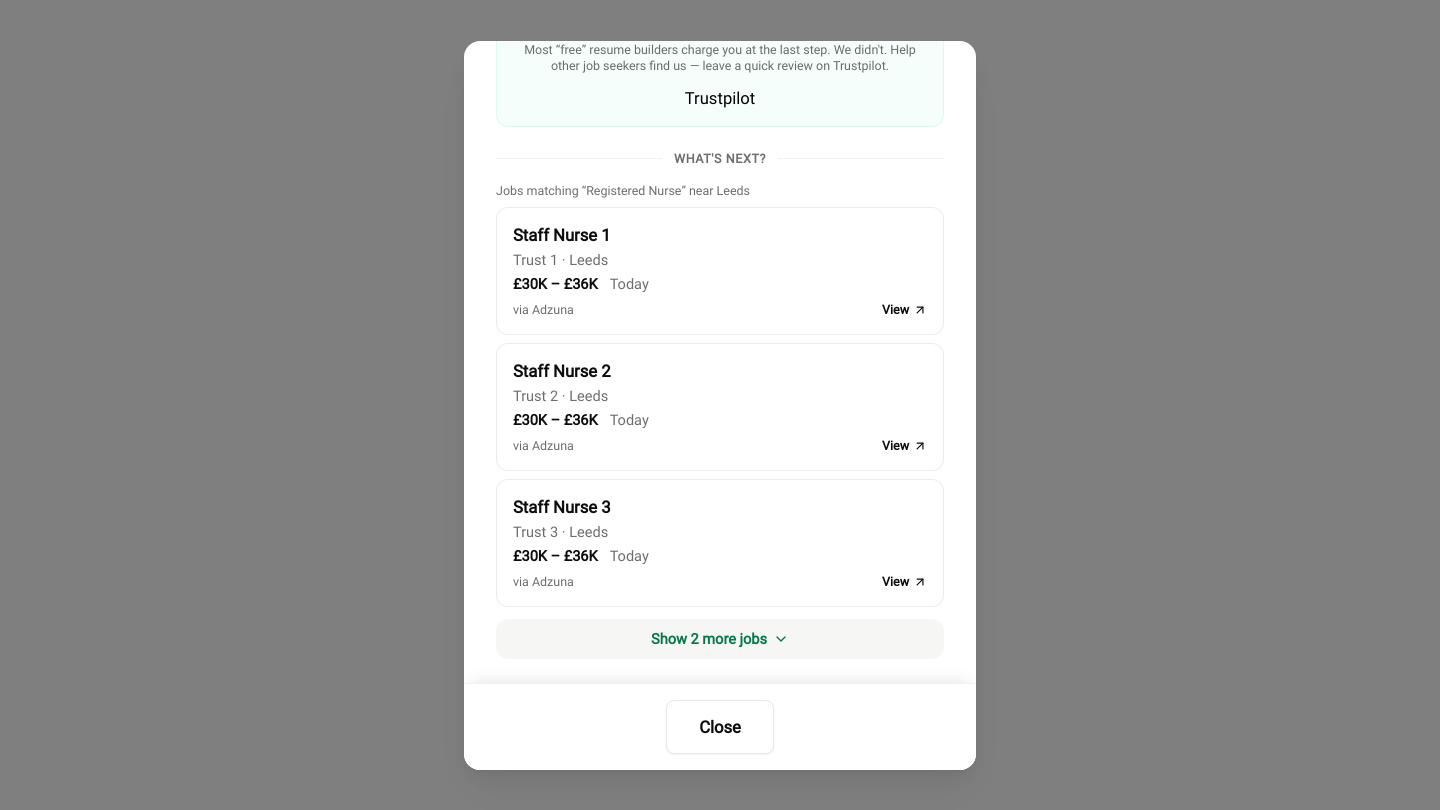
Test case: post-download shows 3 jobs, the rest behind "Show more", and counts only those shown
(page scrolled)
Expected: the heading "Staff Nurse 3" is shown, x1=513 y1=496 x2=611 y2=516
Expected: the text "Staff Nurse 4" is not shown
What coordinates should you click on to do the following:
click the button "Show 2 more jobs"
I would click on:
 (720, 638)
Its box is x1=496 y1=618 x2=944 y2=658.
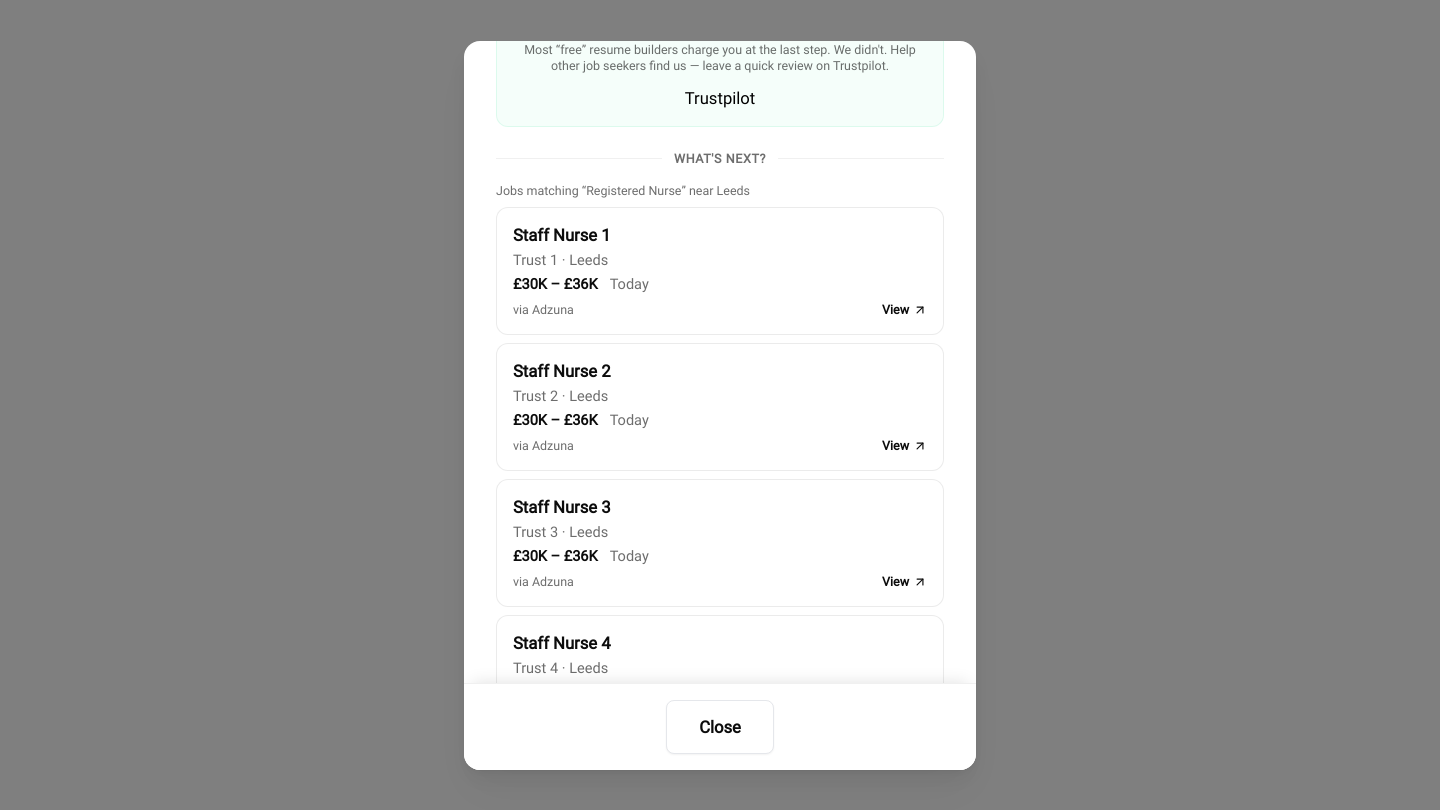
Now the button "more jobs" is gone
